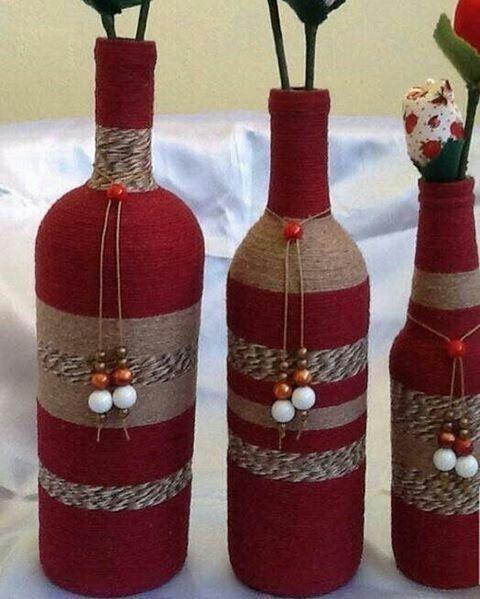bottle-glass: (30, 31, 209, 598), (222, 82, 373, 595), (385, 166, 479, 587)
